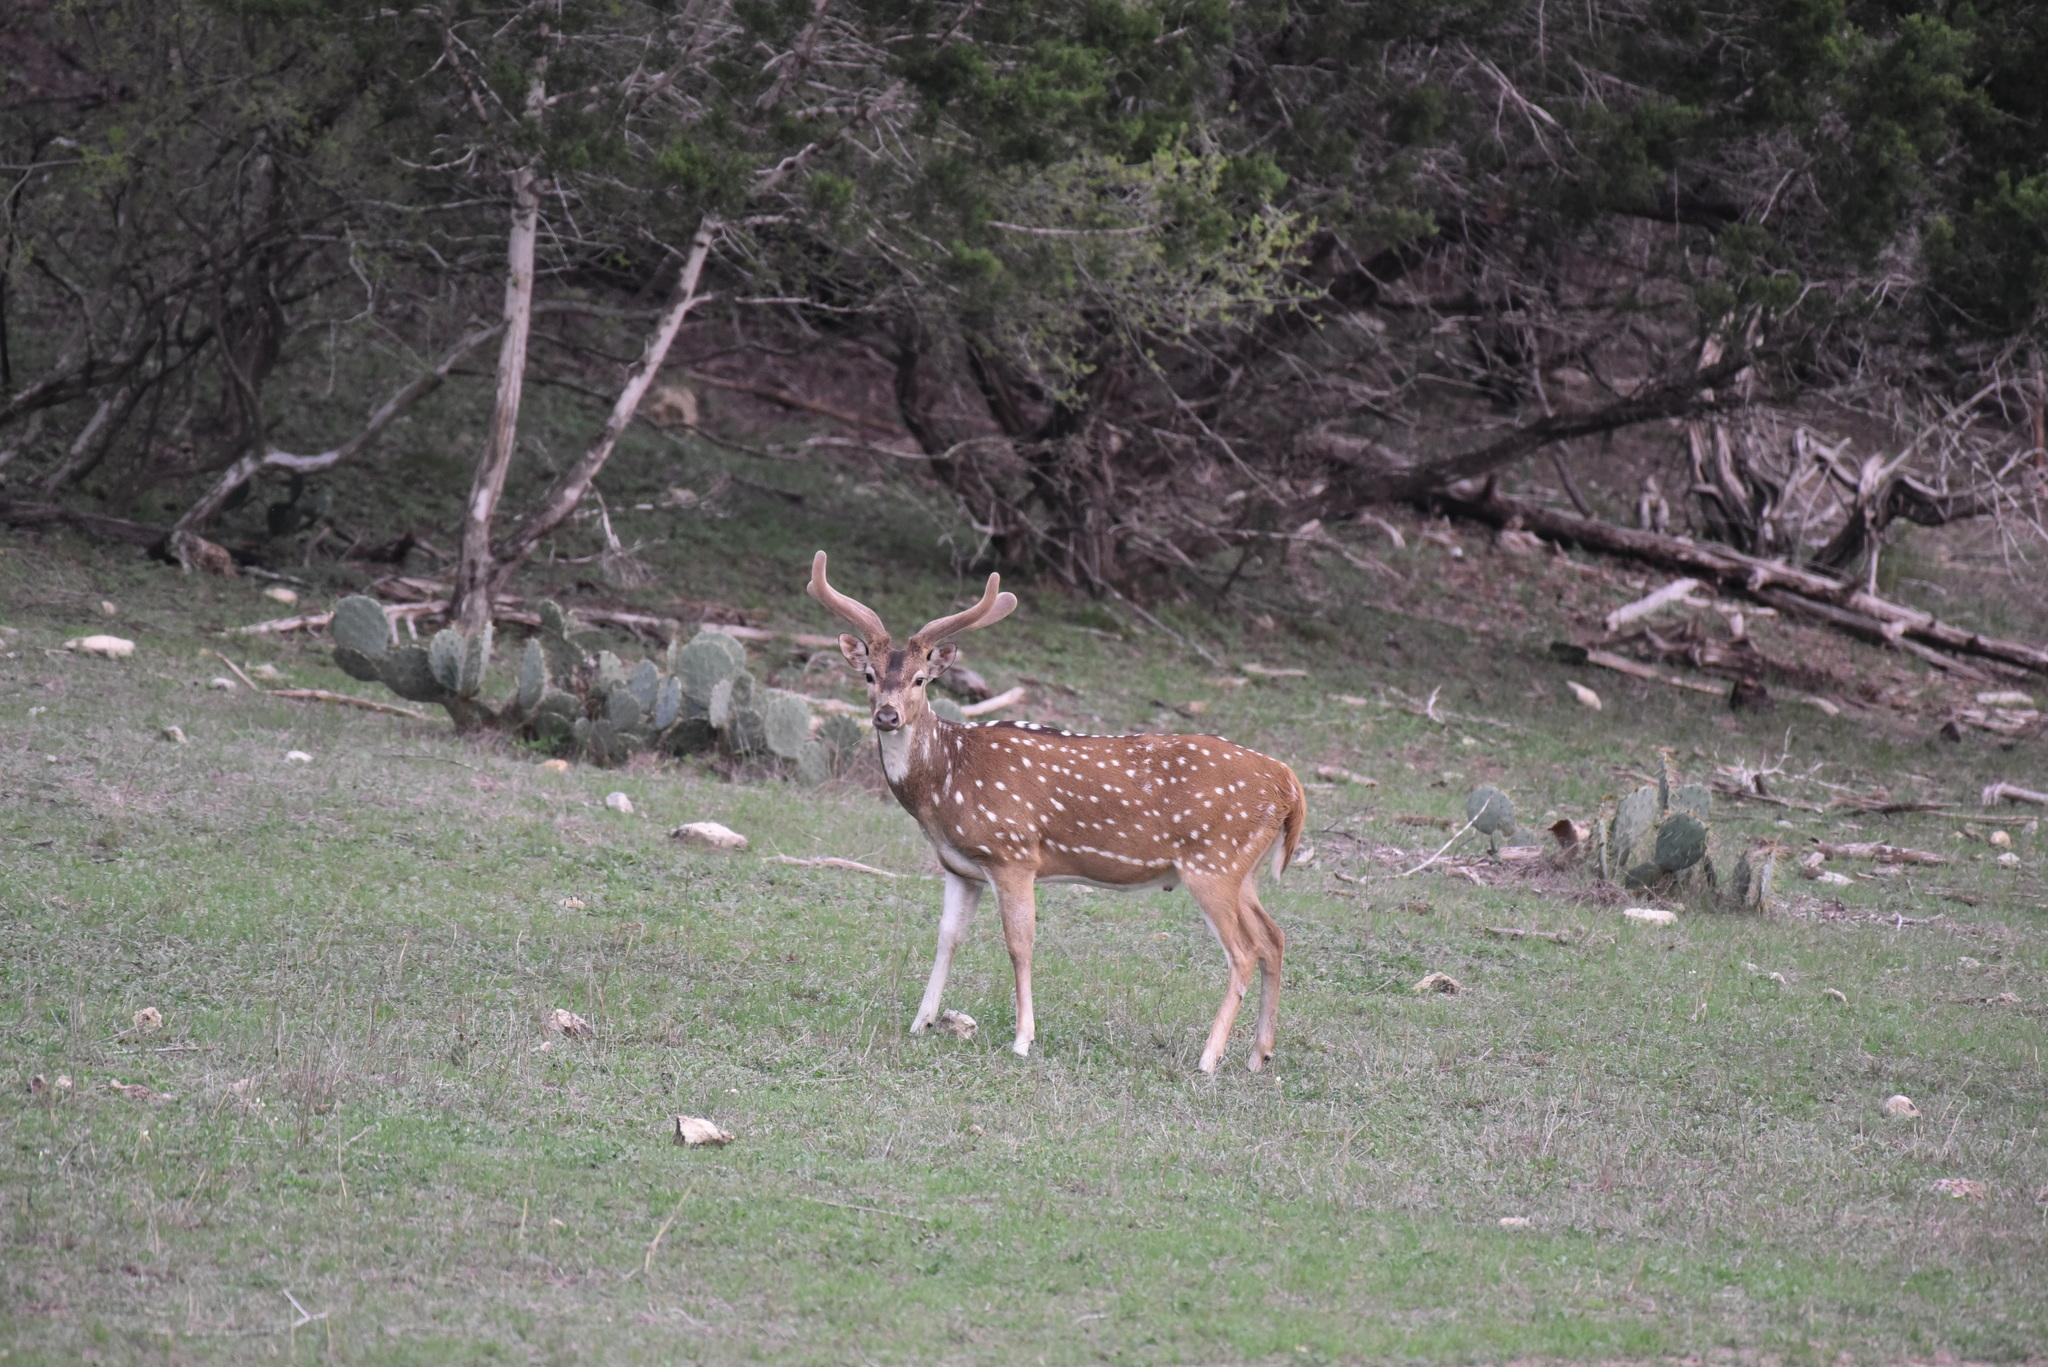Deer: (807, 552, 1305, 1073)
